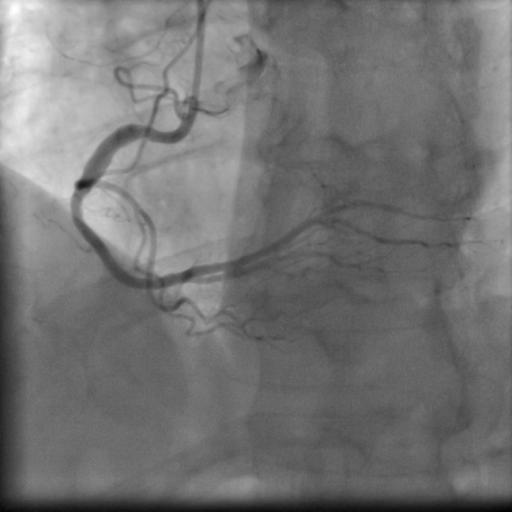Stenosis: (69, 191, 88, 220)
